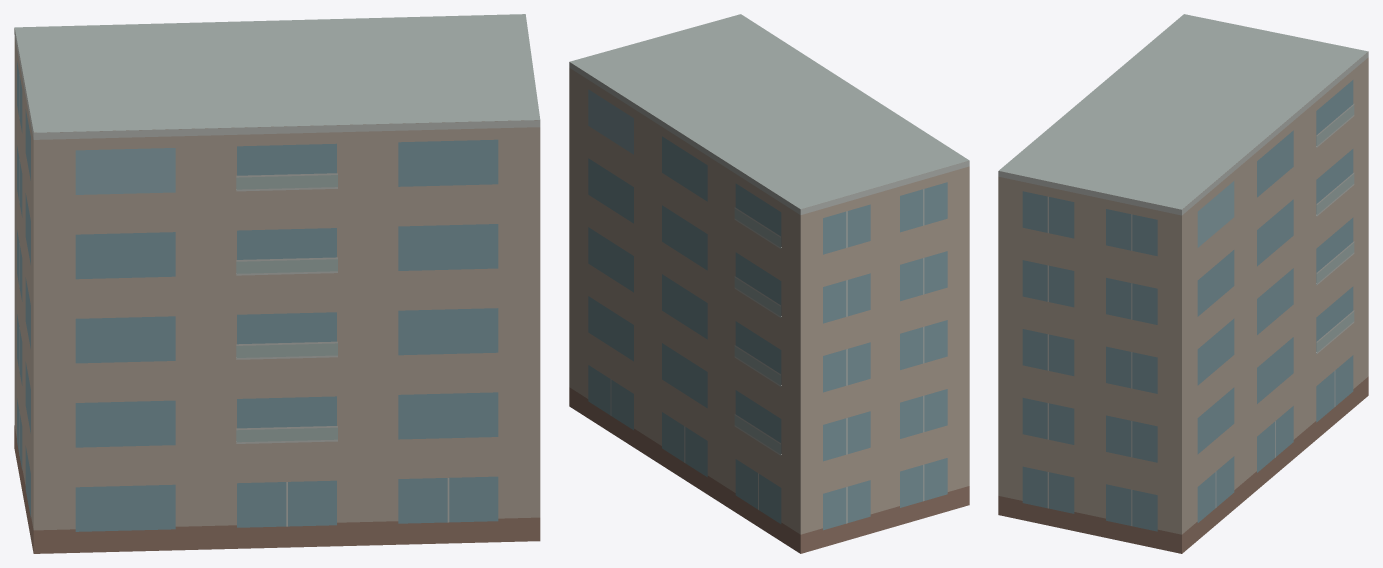
The model's file is survey-upis-32941605.glb.
3 renders of one model, left to right at view 1: azimuth 30°, elevation 25°; view 2: azimuth 150°, elevation 25°; view 3: azimuth 270°, elevation 25°, orthographic. The views are drawn at different scales.
Parts seen in each view (by area): view 1: survey-upis-32941605.tmp; view 2: survey-upis-32941605.tmp; view 3: survey-upis-32941605.tmp.
Part boxes in pixels (box(x1,y1,x2,y2)): survey-upis-32941605.tmp: box(14, 14, 540, 553); survey-upis-32941605.tmp: box(569, 14, 969, 553); survey-upis-32941605.tmp: box(998, 14, 1368, 553).
Bounding box in the file's own units: 17.45 × 14.3 × 13.94.
